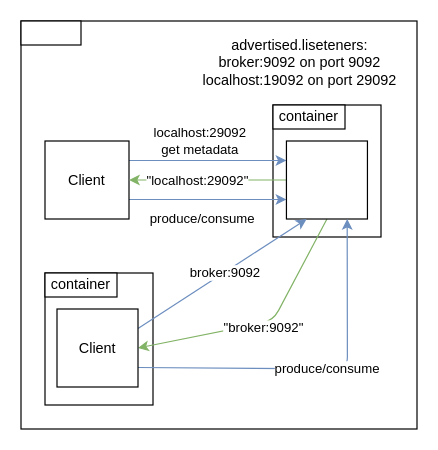
The diagram is 438 pixels wide and 450 high, and some of its shapes have lost their labels. The centre of each missing label's shape, as x and y in pixels:
"host" belongs at point 50,32.
"Kafka" belongs at point 326,179.
